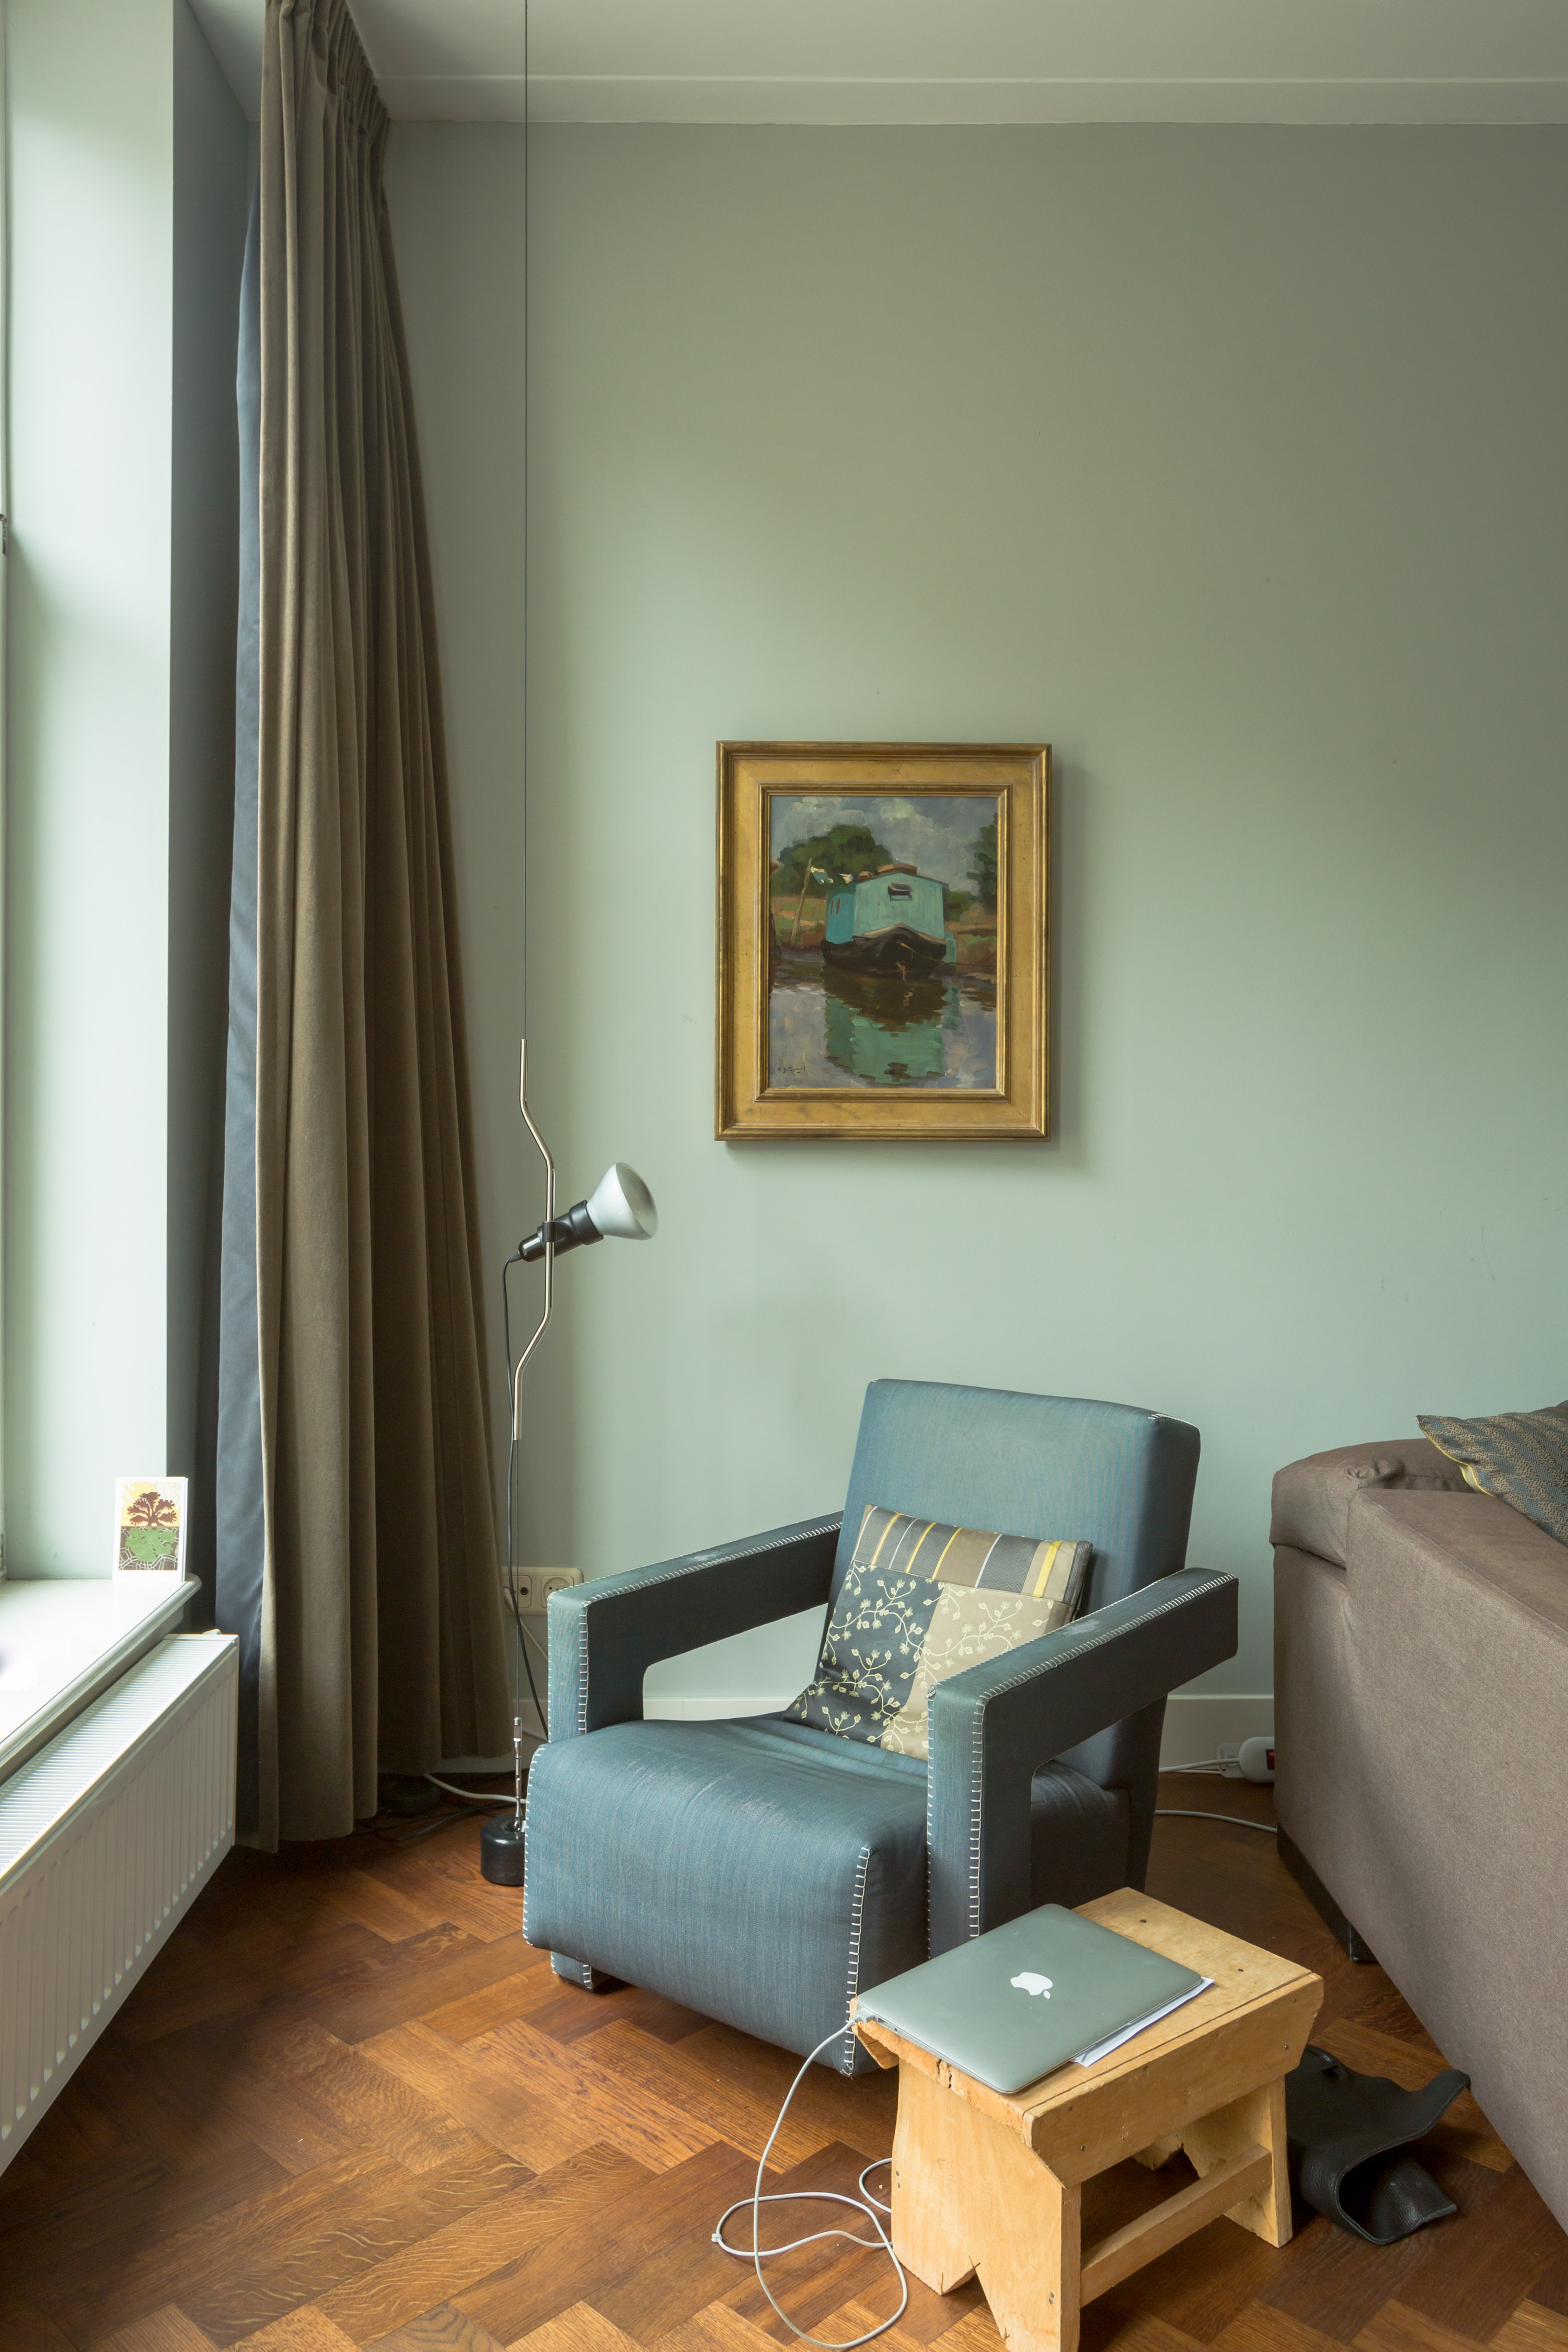Chair: (534, 1370, 1227, 2100)
Painting: (698, 726, 1069, 1146)
Table: (829, 1874, 1370, 2352)
